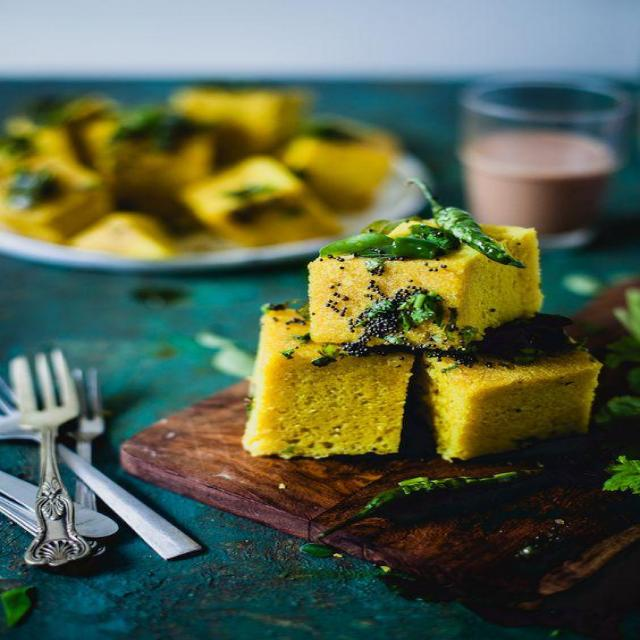dhokla: (256, 220, 602, 478), (25, 69, 403, 259)
